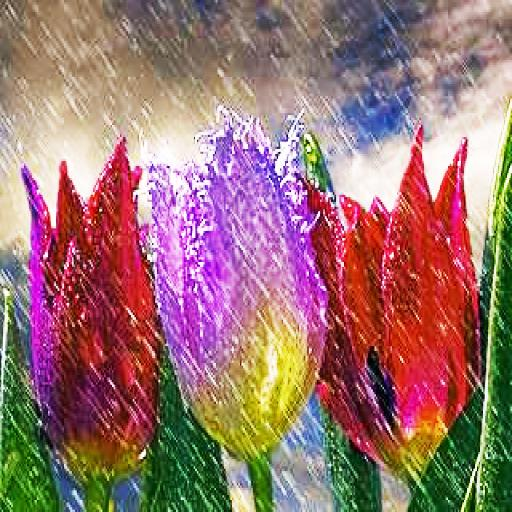tulip: (146, 108, 324, 447), (333, 116, 483, 478), (18, 137, 164, 483)
